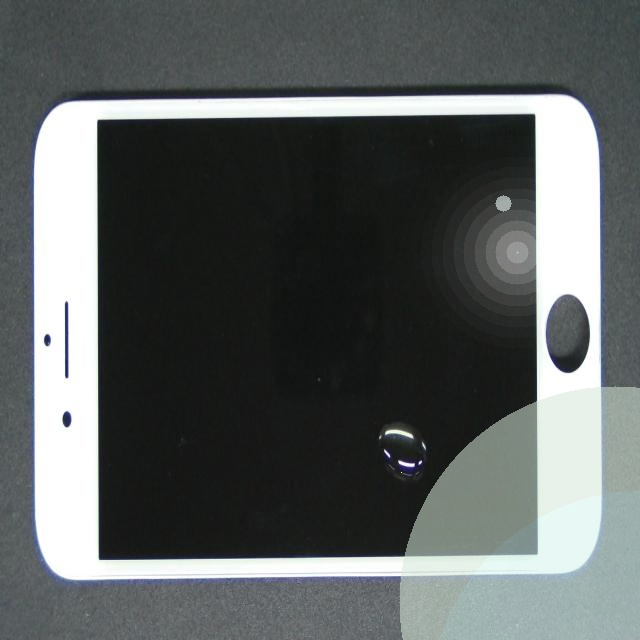oil: (187, 195, 568, 640)
